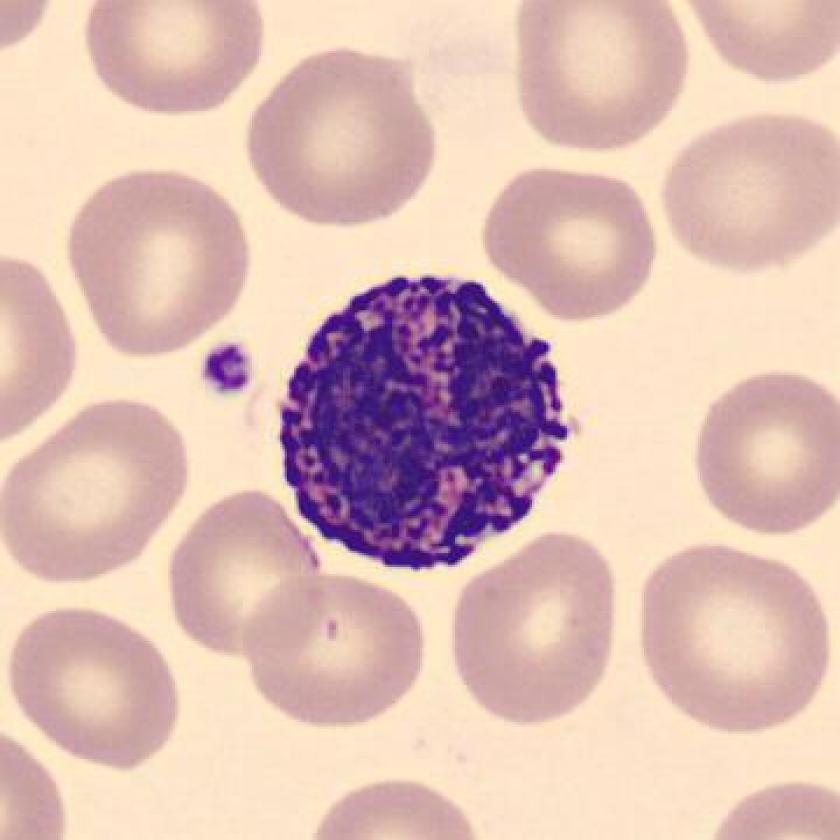basophil: (267, 258, 587, 586)
